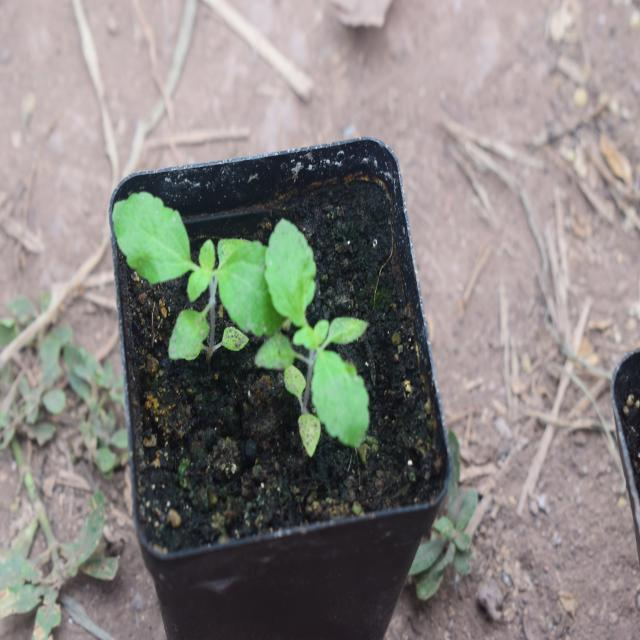billygoat_weed: (118, 180, 284, 370), (260, 207, 377, 442)
